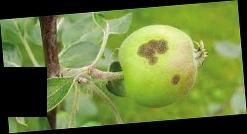rotten apple: (114, 23, 199, 107)
